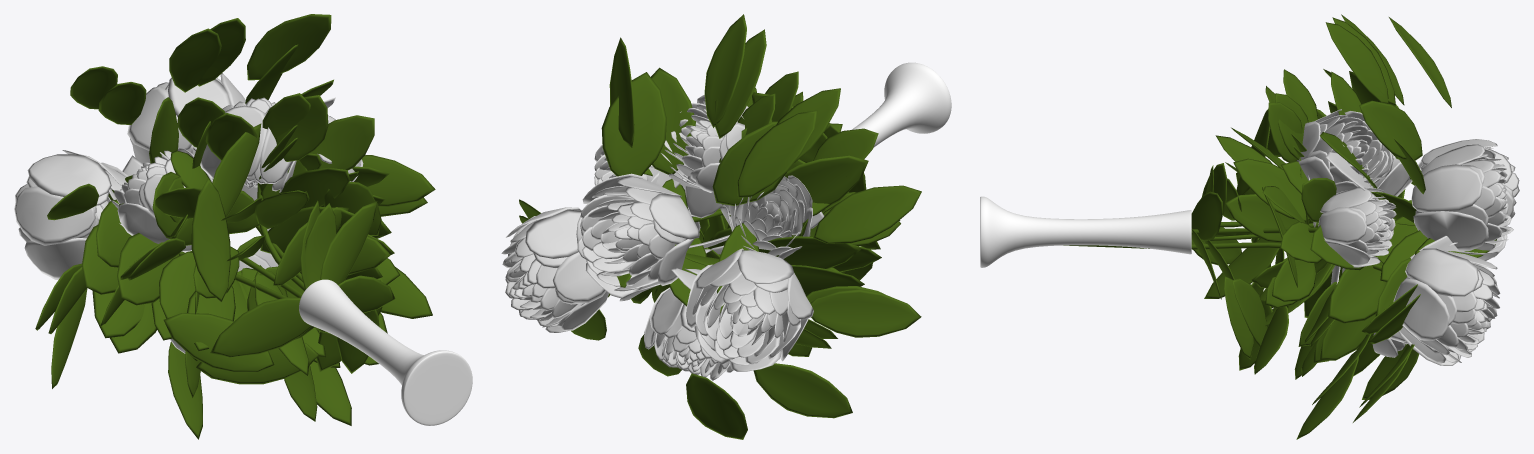
3 views of the same model, side by side, from view 1: azimuth 30°, elevation 25°; view 2: azimuth 150°, elevation 25°; view 3: azimuth 270°, elevation 25° (orthographic). The views are drawn at different scales.
Size of the model in its own units: 0.2356 by 0.2354 by 0.2981.
